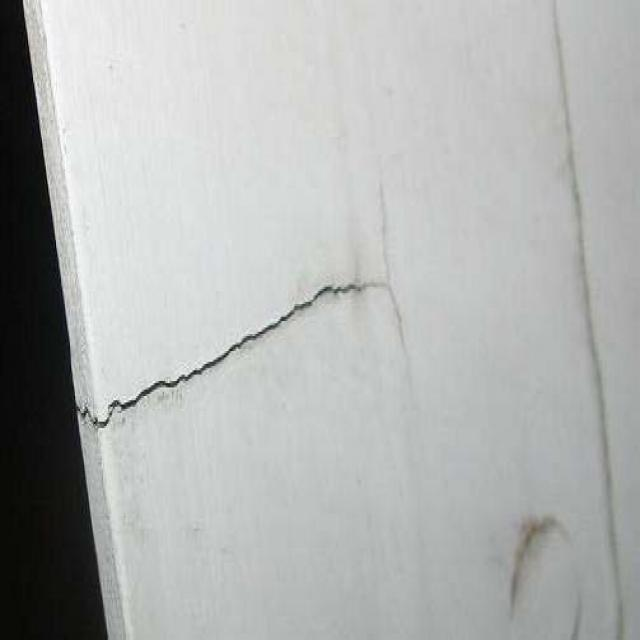crack: (74, 264, 378, 450)
